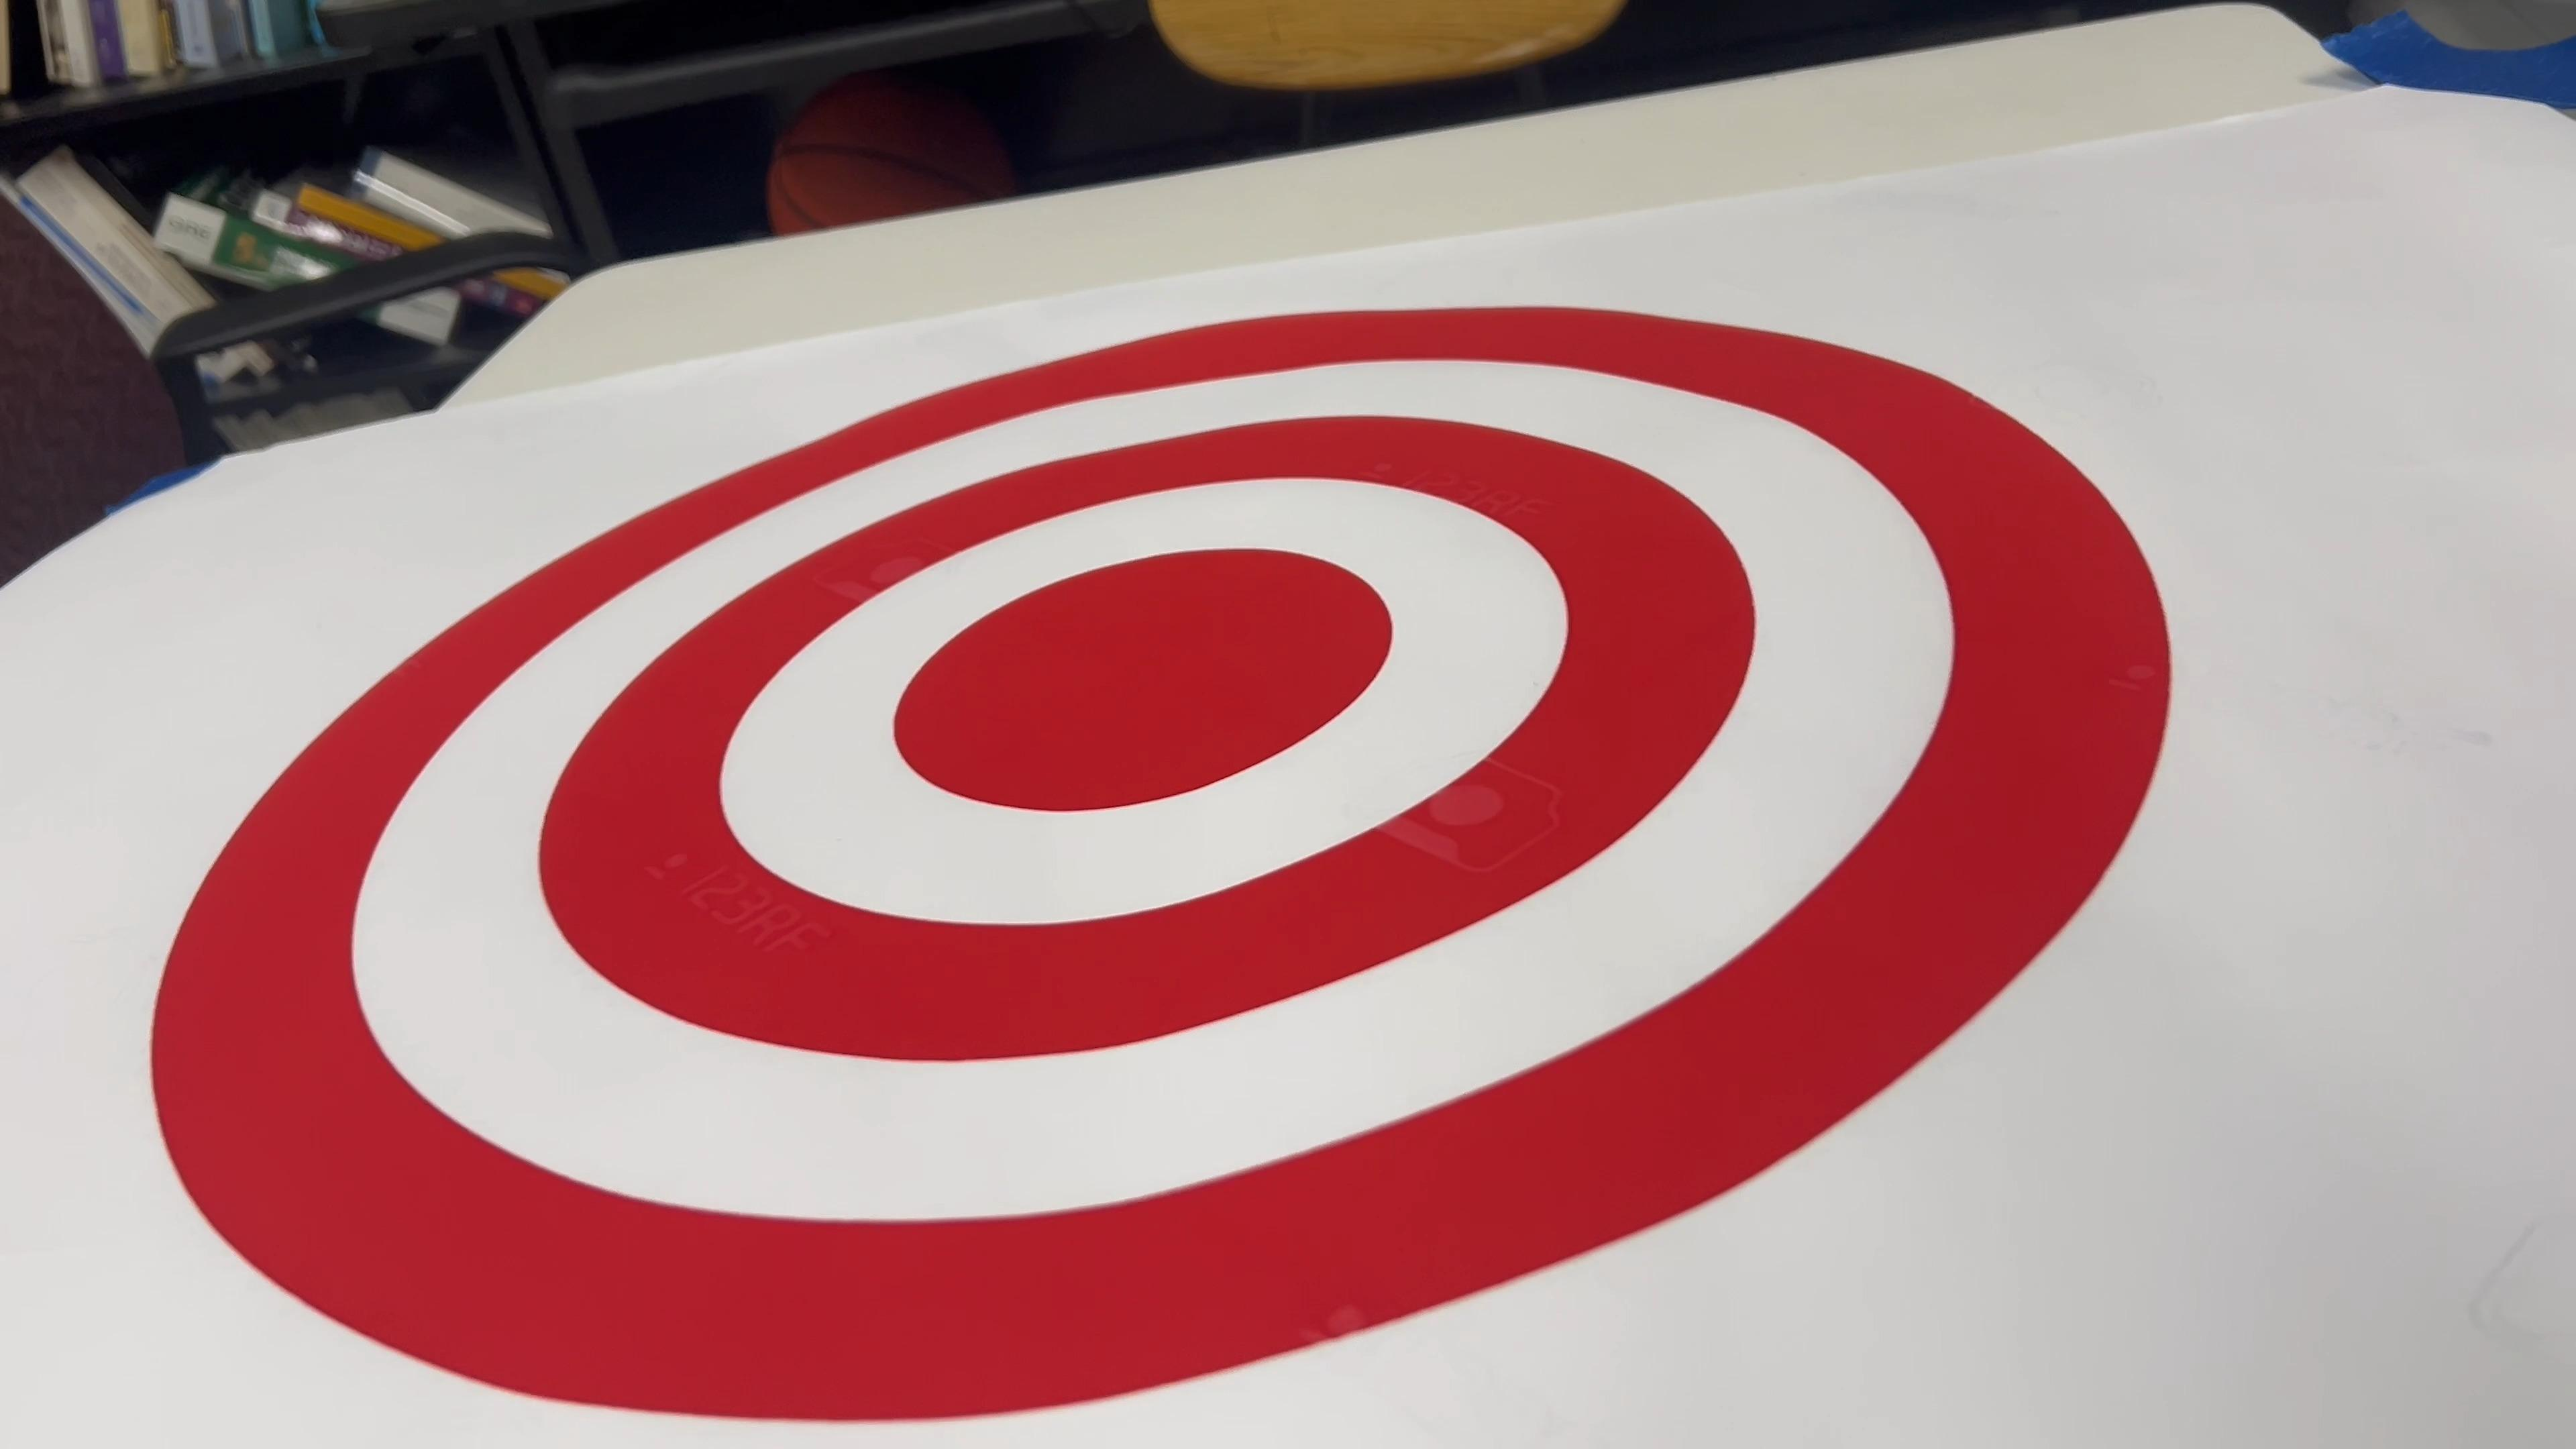target_red: (152, 290, 2180, 1449)
